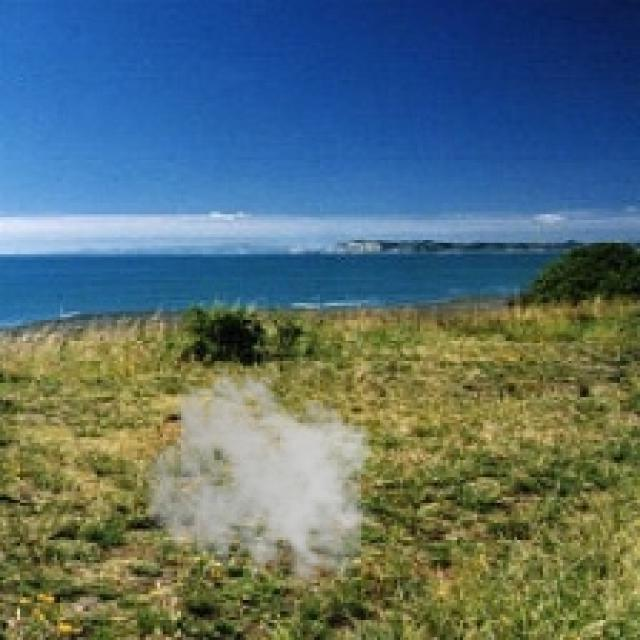smoke: (143, 366, 380, 597)
